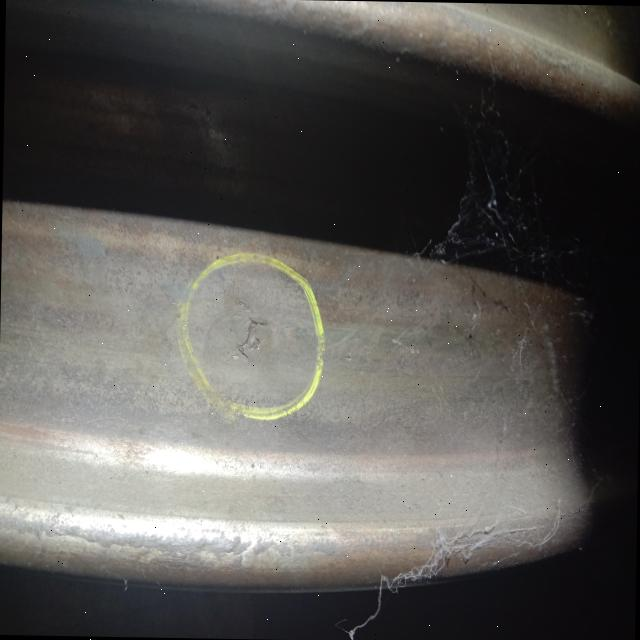Blue hole: (223, 287, 289, 392)
